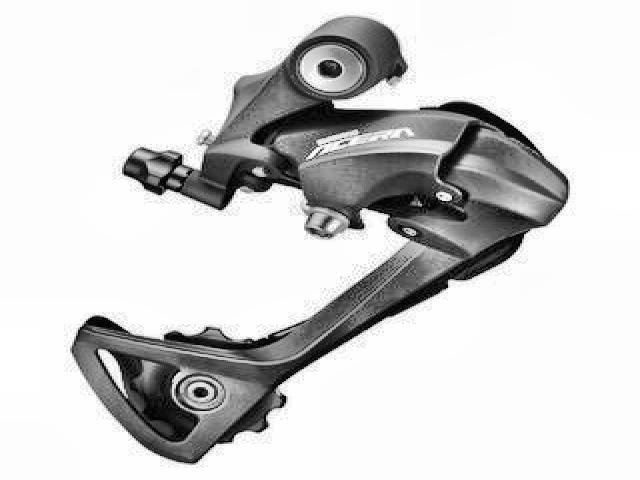rear_derailleur: (65, 10, 573, 467)
